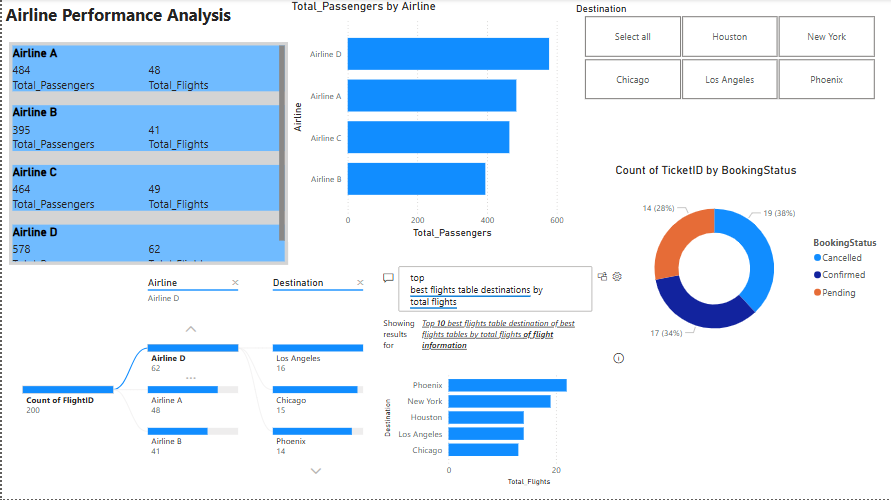

What the dashboard file says about the page in this screenshot:
{"tool":"powerbi","page":{"name":"Dashboard","canvas":[1280,720],"ordinal":0},"visuals":[{"type":"multiRowCard","fields":{"Values":["flight_information.Airline","Flight_Passenger_Merged.Total_Passengers","Flight_Passenger_Merged.Total_Flights"]},"box":[0,0,401.2,321.2],"z":0},{"type":"clusteredBarChart","fields":{"Y":["Flight_Passenger_Merged.Total_Passengers"],"Category":["flight_information.Airline"]},"box":[412,0,402,350],"z":1000},{"type":"donutChart","fields":{"Category":["ticket_information.BookingStatus"],"Y":["CountNonNull(ticket_information.TicketID)"]},"box":[878,0,402,350],"z":2000},{"type":"decompositionTreeVisual","fields":{"Analyze":["CountNonNull(flight_information.FlightID)"],"ExplainBy":["flight_information.Airline","flight_information.Destination"]},"box":[0,350,540,370],"z":3000},{"type":"qnaVisual","box":[591.8,349.9,361.4,370.1],"z":4000},{"type":"slicer","fields":{"Values":["flight_information.Destination"]},"box":[918.3,350,361.7,370],"z":5000}]}

Visuals, with their boxes on the page's 1280x720 design canvas (x1, y1, x2, y2). These are canvas units, not pixel positions in the 891x500 screenshot, which may show the page scaled, cropped or inside an application window:
multiRowCard - flight_information.Airline x Flight_Passenger_Merged.Total_Passengers: [left=0, top=0, right=401, bottom=321]
clusteredBarChart - Flight_Passenger_Merged.Total_Passengers x flight_information.Airline: [left=412, top=0, right=814, bottom=350]
donutChart - ticket_information.BookingStatus x CountNonNull(ticket_information.TicketID): [left=878, top=0, right=1280, bottom=350]
decompositionTreeVisual - CountNonNull(flight_information.FlightID) x flight_information.Airline: [left=0, top=350, right=540, bottom=720]
qnaVisual: [left=592, top=350, right=953, bottom=720]
slicer - flight_information.Destination: [left=918, top=350, right=1280, bottom=720]
